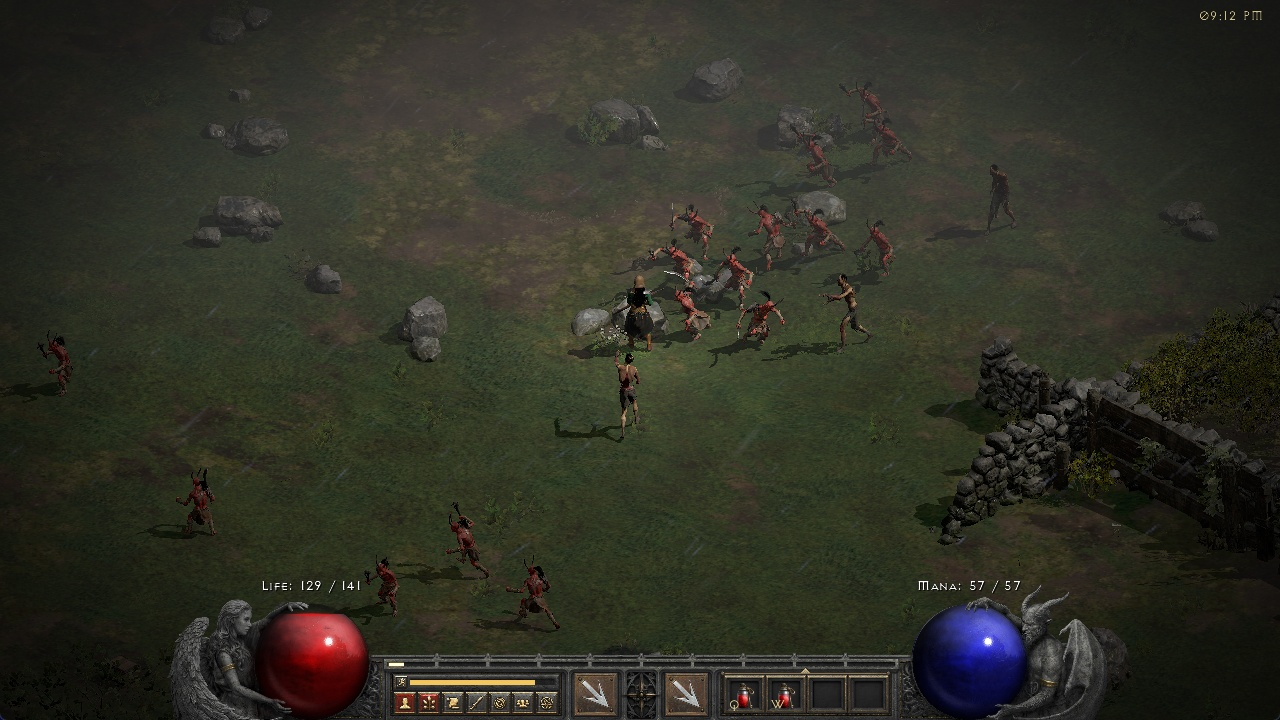fallen: (33, 331, 82, 397), (508, 561, 556, 625), (791, 126, 842, 182), (441, 502, 484, 567), (181, 465, 216, 542), (363, 560, 410, 617), (799, 202, 839, 263), (752, 203, 793, 262), (664, 286, 713, 334), (648, 245, 712, 280), (741, 292, 789, 338), (841, 79, 892, 119), (667, 205, 723, 241), (868, 125, 918, 165), (861, 221, 899, 271), (717, 249, 756, 294)
